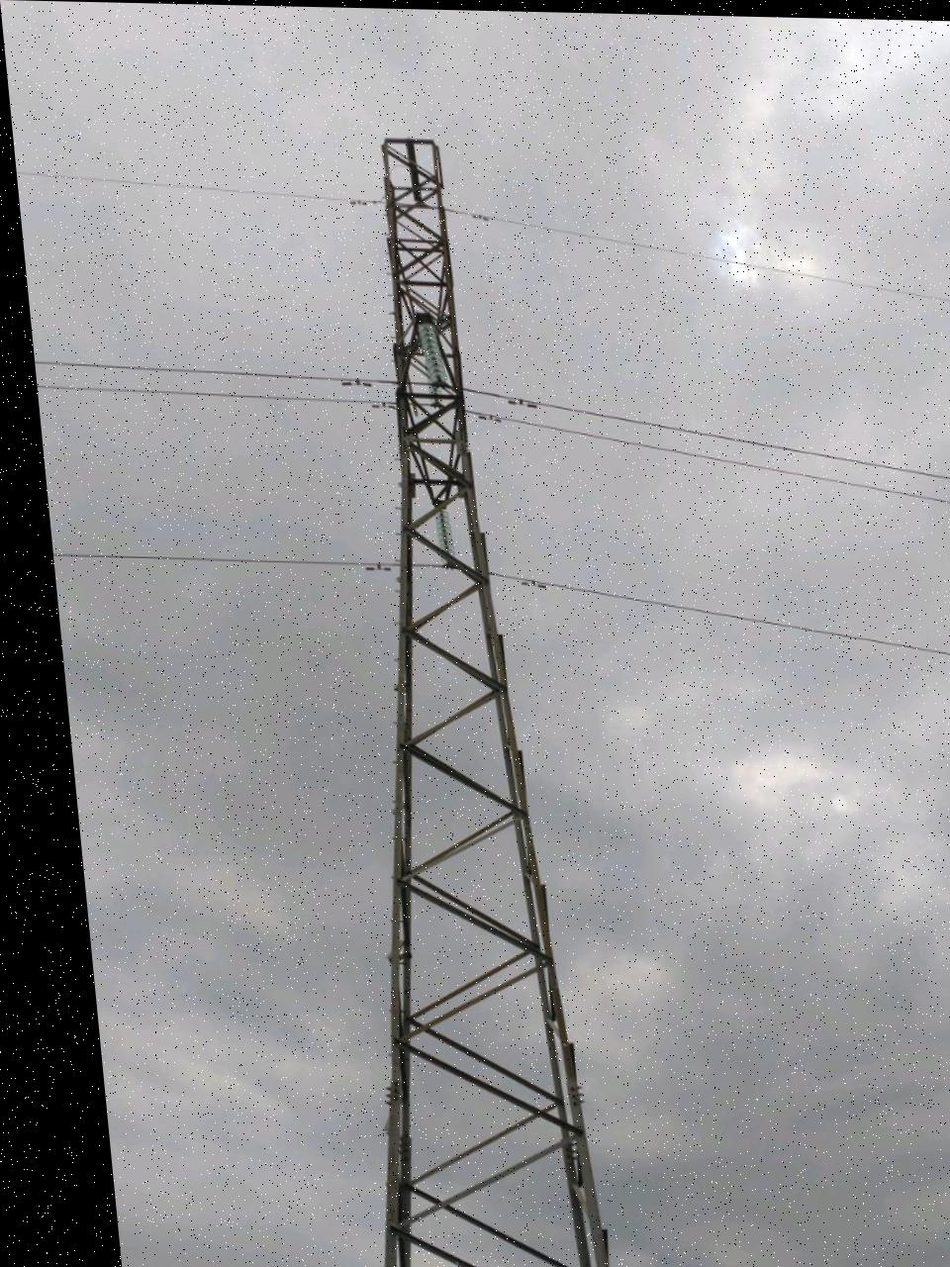tower: (270, 108, 620, 1267)
